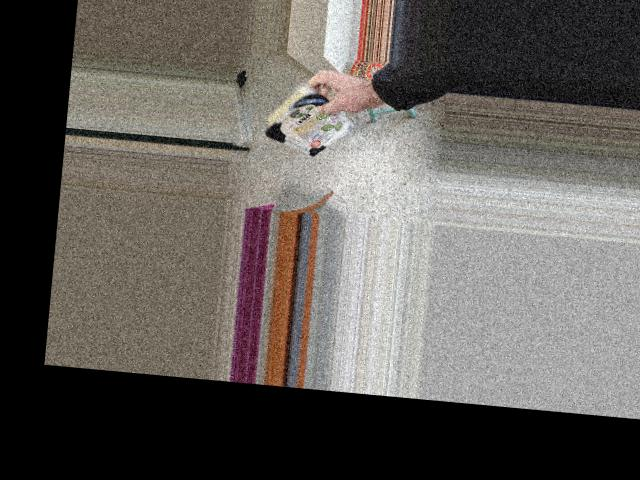cheese: (262, 57, 350, 169)
